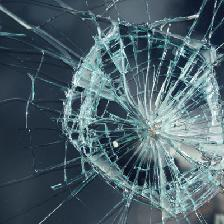broken_glass: (146, 110, 169, 140)
